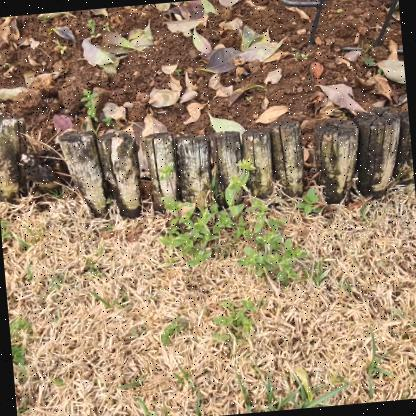Weeds: (155, 148, 309, 295), (213, 297, 258, 347), (160, 314, 192, 346), (297, 188, 321, 221), (80, 87, 99, 122)
